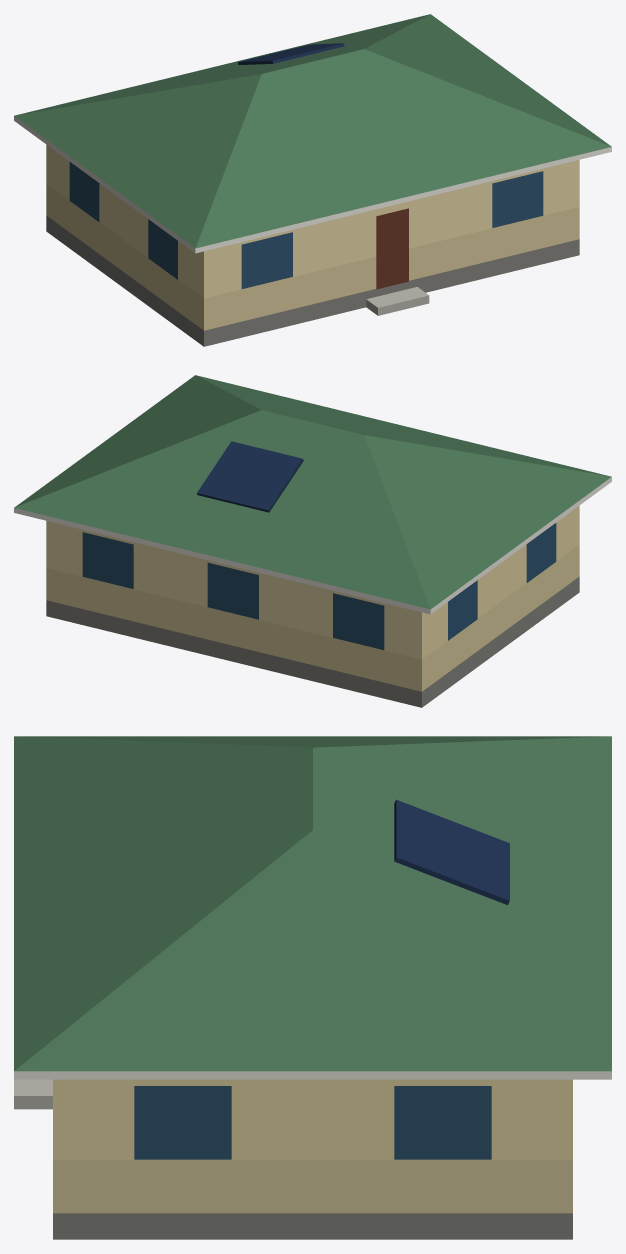
Rendered from house_11x8_lod1.glb.
The picture shows the model from 3 angles, top to bottom: view 1: azimuth 30°, elevation 25°; view 2: azimuth 150°, elevation 25°; view 3: azimuth 270°, elevation 25°; orthographic projection. The views are drawn at different scales.
Parts seen in each view (by area): view 1: house; view 2: house; view 3: house.
Part boxes in pixels (<box>): house: <box>14,14,611,346</box>; house: <box>14,375,611,707</box>; house: <box>14,736,611,1239</box>.
Size of the model in its own units: 12.2 by 5.09 by 9.2.
